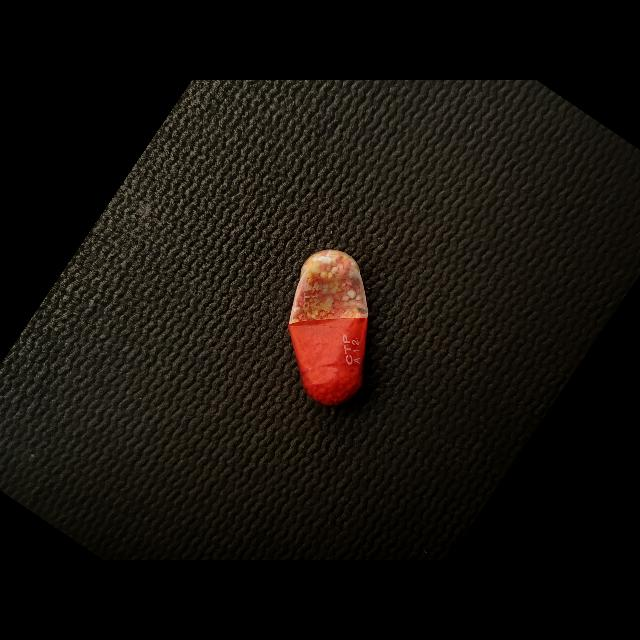Defective Capsule: (288, 249, 368, 406)
